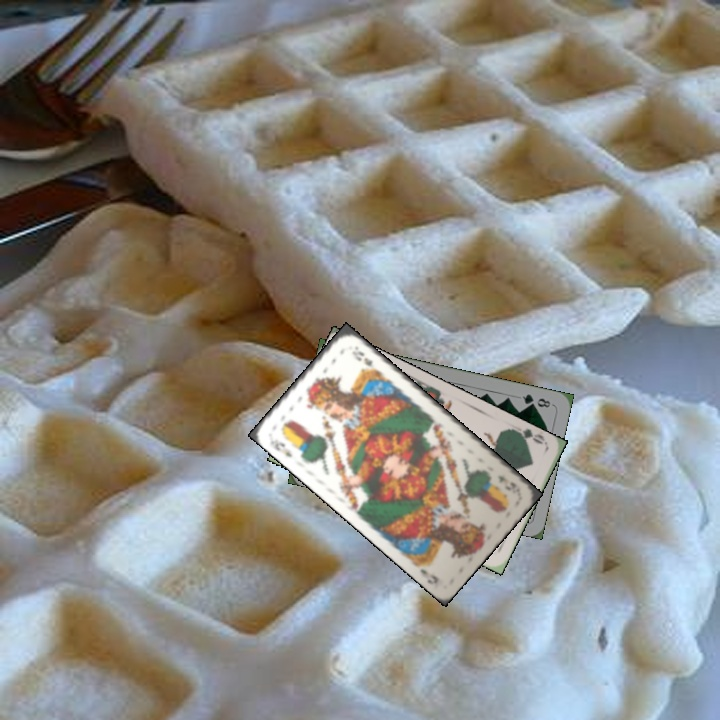EK: (266, 434, 295, 460), (493, 471, 518, 495)
G8: (518, 390, 553, 410)
GO: (509, 425, 548, 448)
